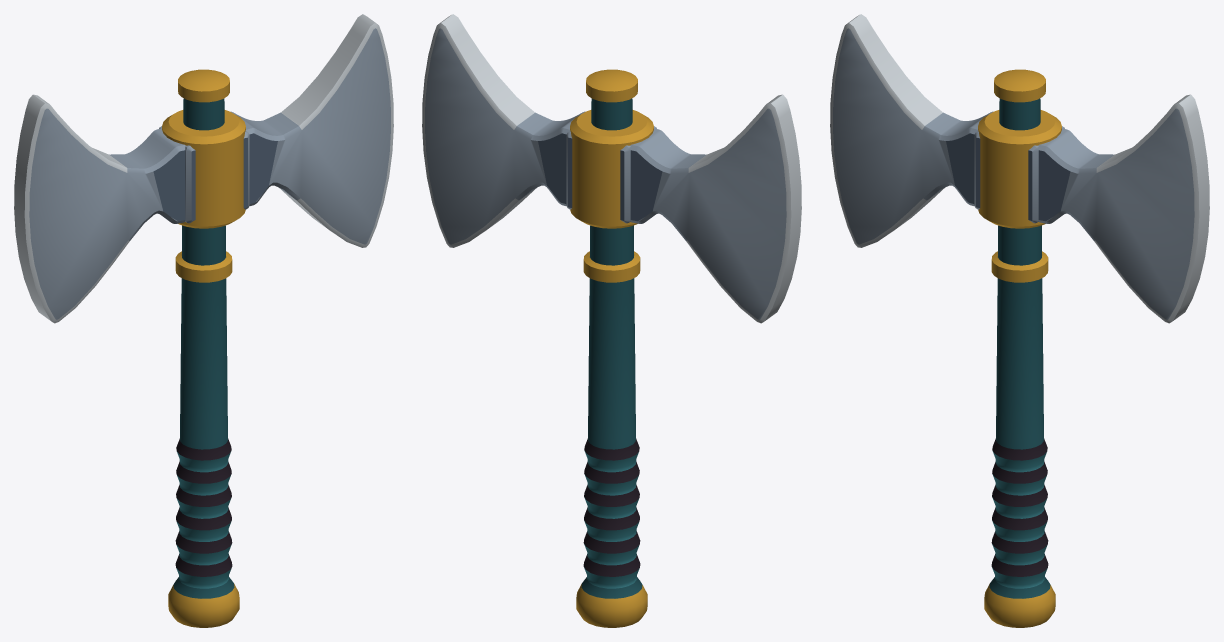
The model's file is Axe_18.glb.
3 views of the same model, side by side, from view 1: azimuth 30°, elevation 25°; view 2: azimuth 150°, elevation 25°; view 3: azimuth 330°, elevation 25° (orthographic).
Parts seen in each view (by area): view 1: Axe_18; view 2: Axe_18; view 3: Axe_18.
Boxes of the visible parts, x1=… form: Axe_18: x1=14, y1=14, x2=393, y2=627; Axe_18: x1=422, y1=14, x2=801, y2=627; Axe_18: x1=830, y1=14, x2=1209, y2=627.
Bounding box in the file's own units: 3.19 × 4.59 × 0.63.
